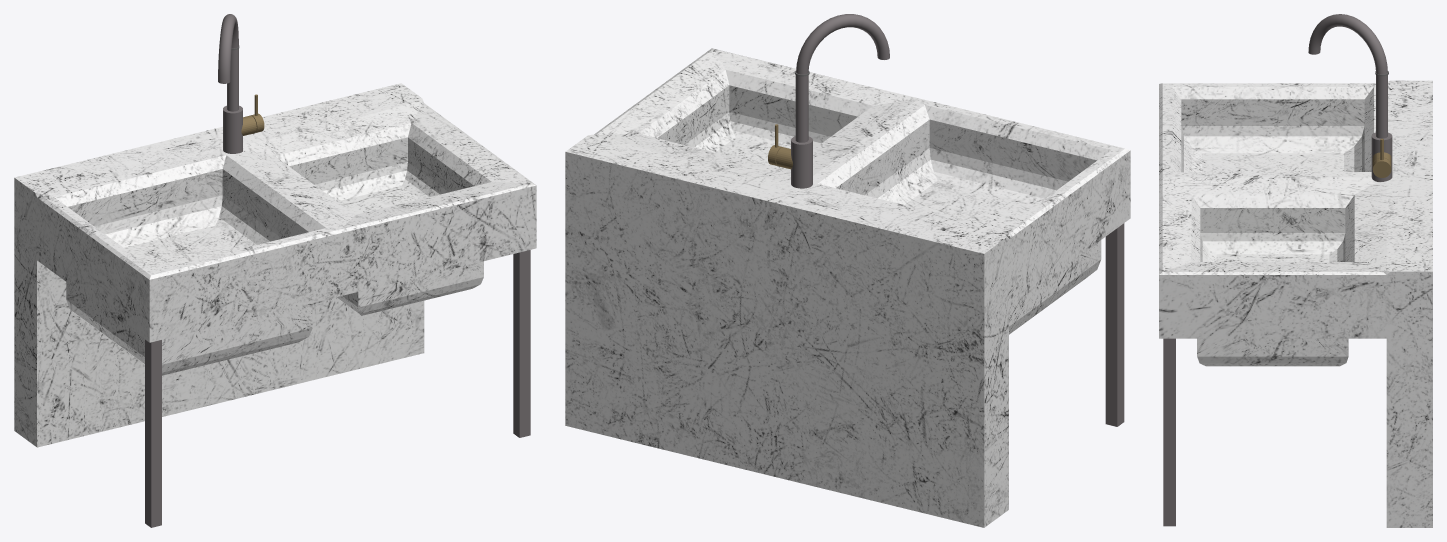
Rendered from Sink.fbx.
3 renders of one model, left to right at view 1: azimuth 30°, elevation 25°; view 2: azimuth 150°, elevation 25°; view 3: azimuth 270°, elevation 25°, orthographic. The views are drawn at different scales.
Parts seen in each view (by area): view 1: Sink, SİngLeg, Sink02, Sink01; view 2: Sink, SİngLeg, Sink02, Sink01; view 3: Sink, SİngLeg, Sink01, Sink02, Opener02.
Boxes of the visible parts, x1,y1,x2,y2 form: Sink: [14, 83, 536, 447]; SİngLeg: [145, 250, 530, 527]; Sink02: [223, 49, 242, 153]; Sink01: [218, 14, 238, 83]; Sink: [565, 48, 1130, 527]; SİngLeg: [1105, 223, 1124, 426]; Sink02: [791, 75, 812, 188]; Sink01: [796, 14, 889, 74]; Sink: [1159, 80, 1432, 527]; SİngLeg: [1163, 338, 1175, 526]; Sink01: [1308, 14, 1387, 74]; Sink02: [1371, 75, 1392, 181]; Opener02: [1372, 138, 1391, 177].
Size of the model in its own units: 140 by 139 by 84.94.
